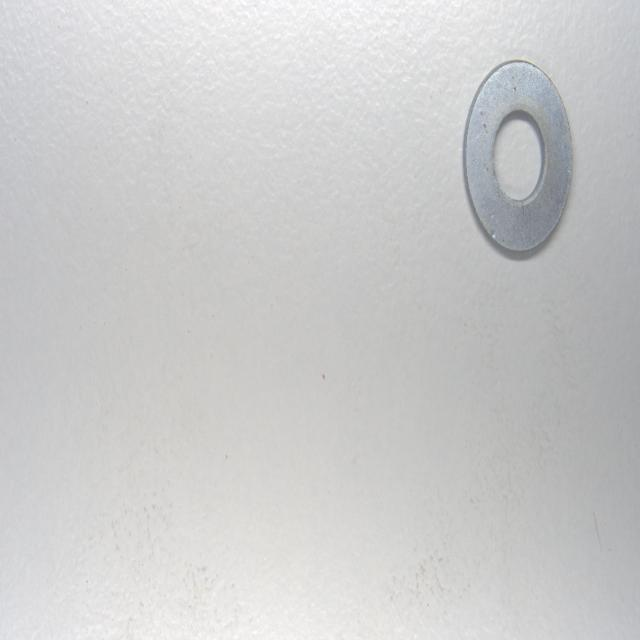washer: (463, 58, 574, 256)
